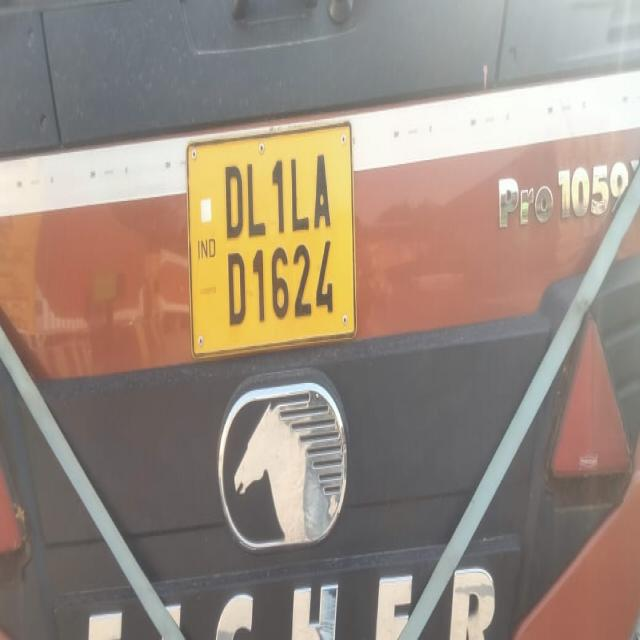License-plate: (204, 123, 380, 402)
